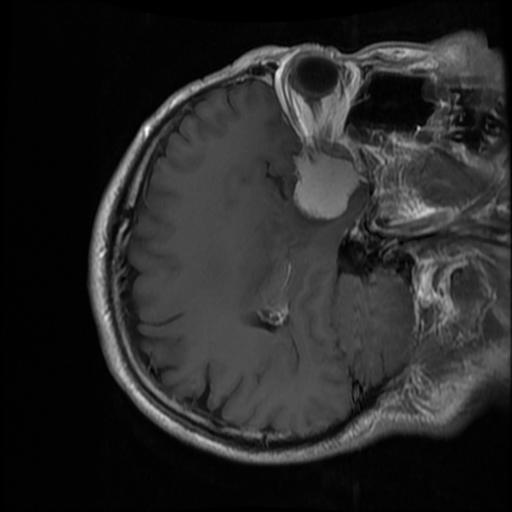meningioma: (292, 147, 361, 219)
